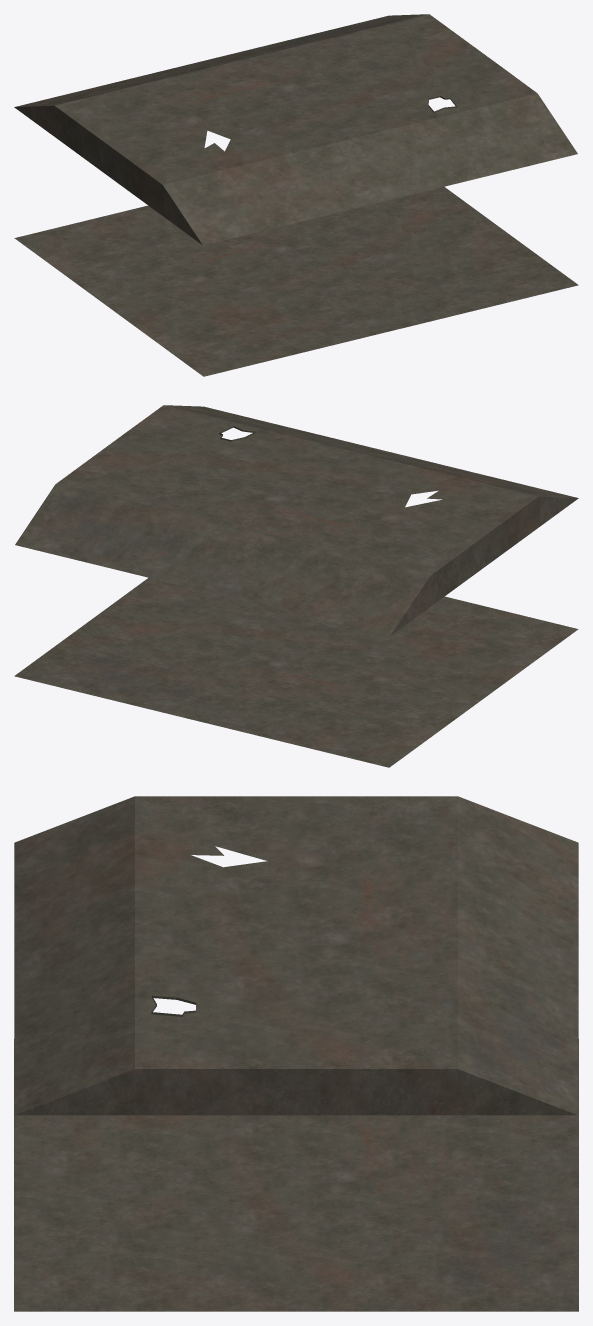
Rendered from floor1.glb.
3 renders of one model, top to bottom at view 1: azimuth 30°, elevation 25°; view 2: azimuth 150°, elevation 25°; view 3: azimuth 270°, elevation 25°, orthographic. The views are drawn at different scales.
Visible parts, largest first — view 1: Plane.008, Plane; view 2: Plane.008, Plane; view 3: Plane.008, Plane.
Part boxes in pixels (box(x1,y1,x2,y2)): Plane.008: box(14, 14, 577, 245); Plane: box(14, 186, 578, 376); Plane.008: box(15, 405, 578, 636); Plane: box(14, 577, 578, 767); Plane.008: box(14, 796, 578, 1115); Plane: box(14, 1039, 578, 1311).
Size of the model in its own units: 33.7 by 14.04 by 29.43.
1 material, 1 textured.
